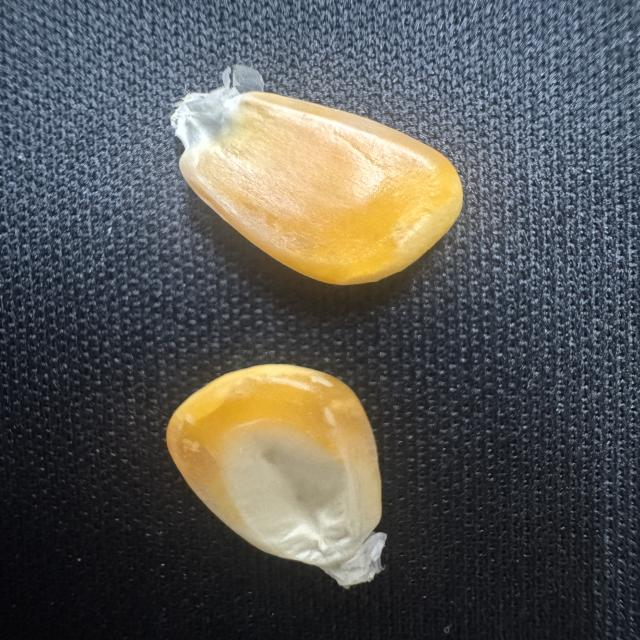Good-Seed: (144, 59, 478, 291), (132, 358, 431, 594)
